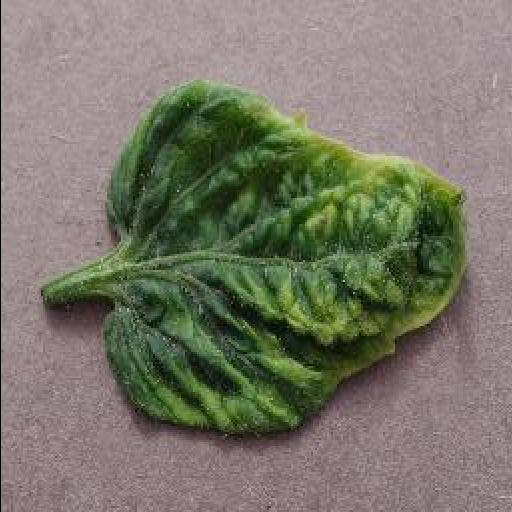disease_tomato: (94, 78, 470, 430)
